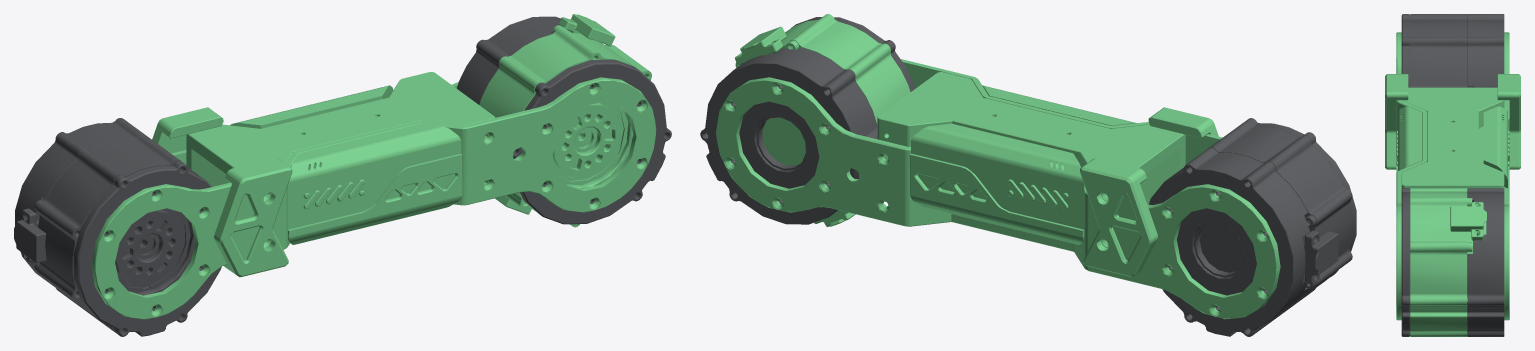
The picture shows the model from 3 angles, left to right: view 1: azimuth 30°, elevation 25°; view 2: azimuth 150°, elevation 25°; view 3: azimuth 270°, elevation 25°; orthographic projection. The views are drawn at different scales.
Size of the model in its own units: 0.3265 by 0.088 by 0.0785.
